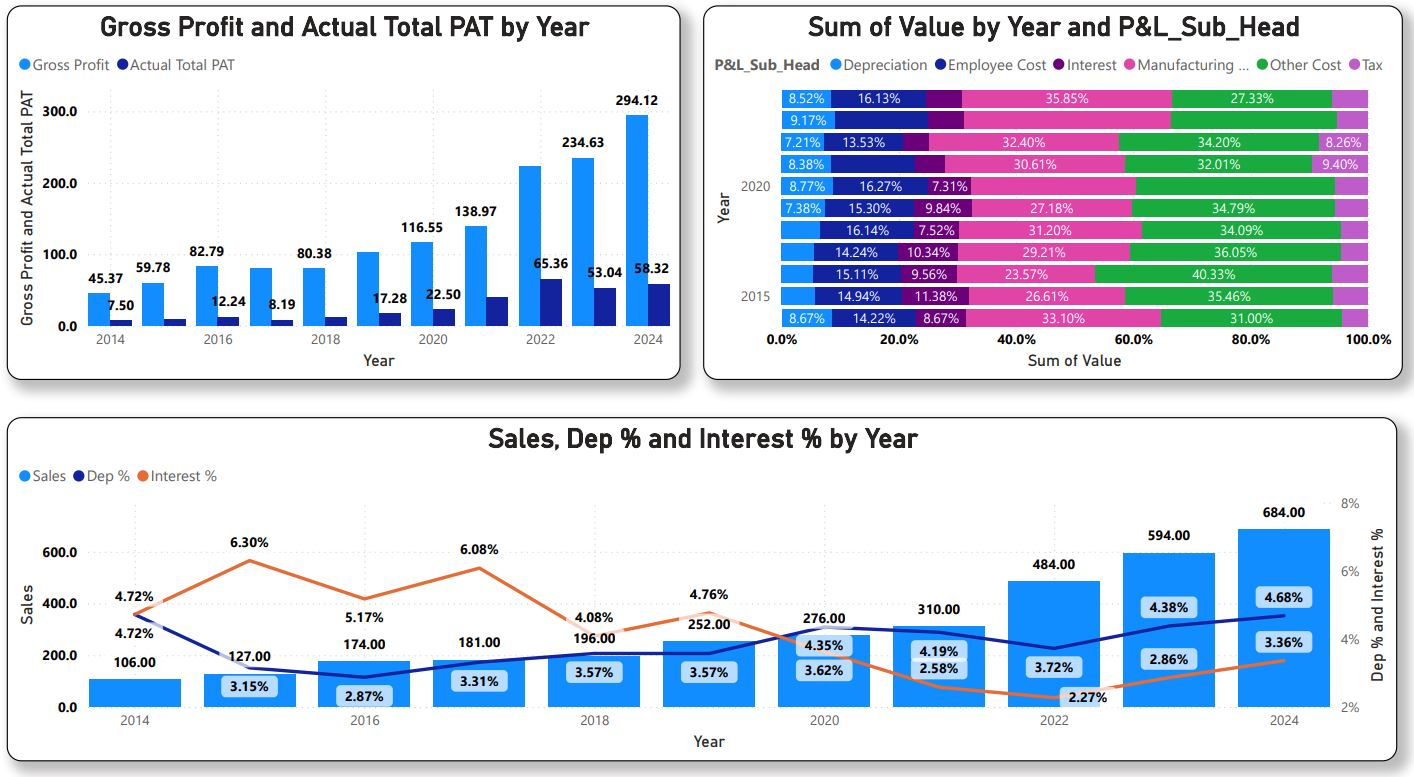

The dashboard page shown, as its layout file describes it:
{"tool":"powerbi","page":{"name":"IS Analysis","canvas":[1280,720],"ordinal":4},"visuals":[{"type":"clusteredColumnChart","fields":{"Category":["Date Dim.Date.Variation.Date Hierarchy.Year"],"Y":["P&L Fact.Gross Profit","P&L Fact.Actual Total PAT"]},"box":[21.7,26.5,599.6,333],"z":0},{"type":"hundredPercentStackedBarChart","fields":{"Category":["Date Dim.Date.Variation.Date Hierarchy.Year"],"Y":["Sum(P&L Fact.Value)"],"Series":["P&L Fact.P&L_Sub_Head"]},"box":[640.6,26.5,622.5,333],"z":1000},{"type":"lineClusteredColumnComboChart","fields":{"Category":["Date Dim.Date.Variation.Date Hierarchy.Year"],"Y":["P&L Fact.Sales"],"Y2":["P&L Fact.Dep %","P&L Fact.Interest %"]},"box":[21.7,393.3,1236.6,305.2],"z":2000}]}

Visuals, with their boxes in screenshot pixels (x1, y1, x2, y2), scaled from the page's 1280x720 canvas onto the 1414x777 screenshot:
clusteredColumnChart - Date Dim.Date.Variation.Date Hierarchy.Year x P&L Fact.Gross Profit: left=24, top=29, right=686, bottom=388
hundredPercentStackedBarChart - Date Dim.Date.Variation.Date Hierarchy.Year x Sum(P&L Fact.Value): left=708, top=29, right=1395, bottom=388
lineClusteredColumnComboChart - Date Dim.Date.Variation.Date Hierarchy.Year x P&L Fact.Sales: left=24, top=424, right=1390, bottom=754
